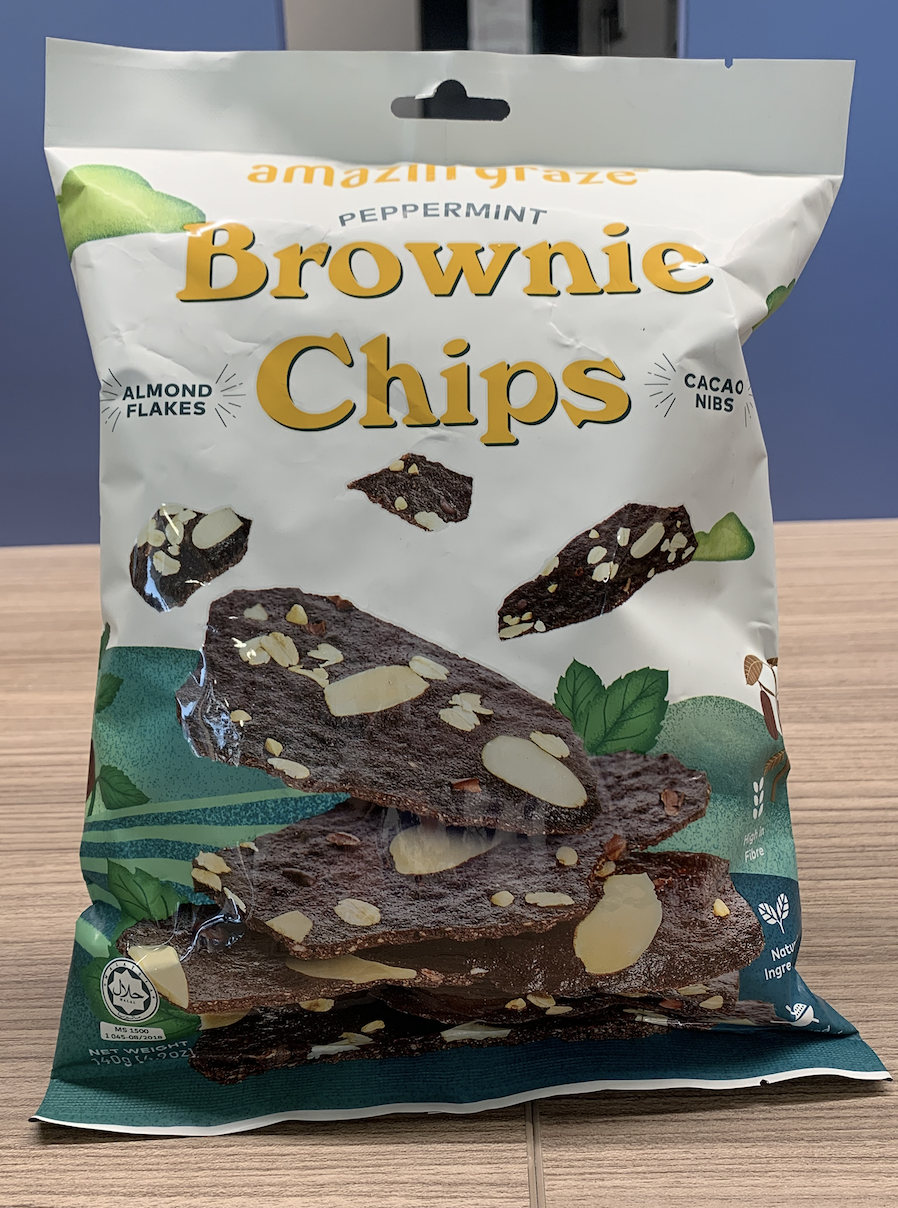crackers_150g: (96, 144, 796, 1074)
